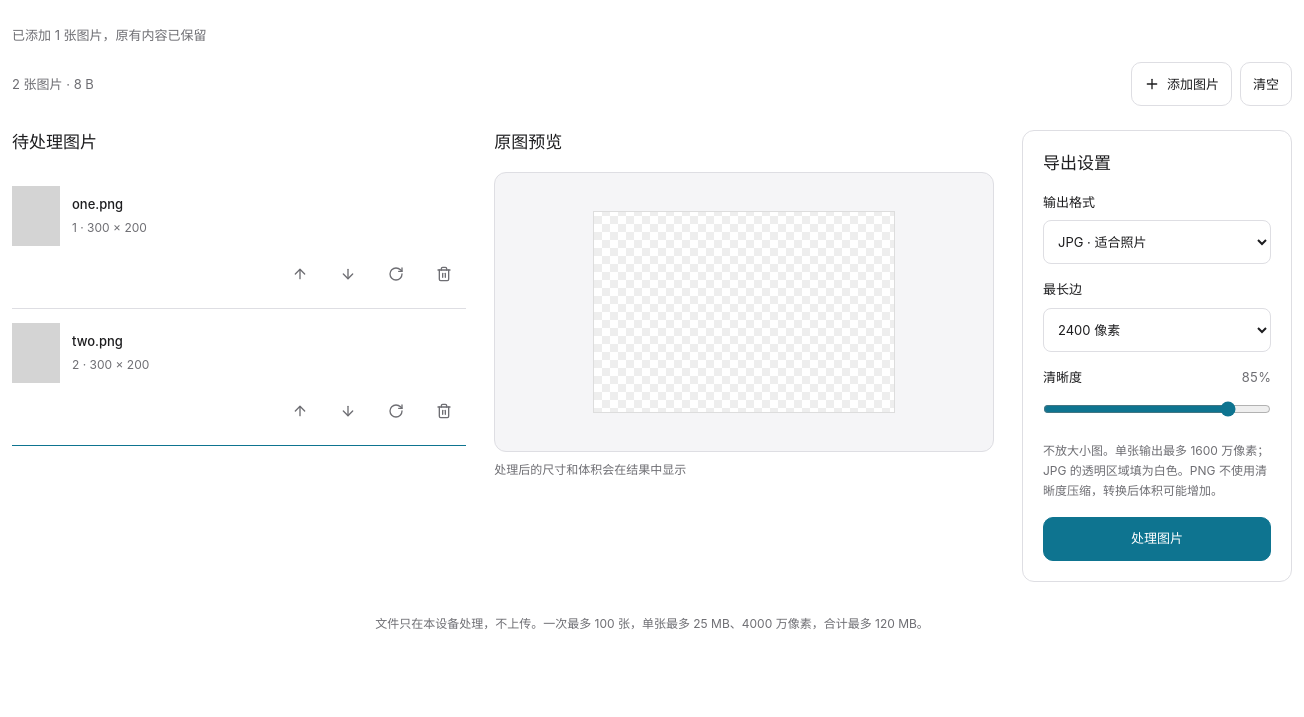
Test: consumes each handoff once in StrictMode and appends a new handoff without replacing existing images
Click the button "处理图片".
click(1157, 539)  # box [1043,517,1271,561]
(page scrolled)
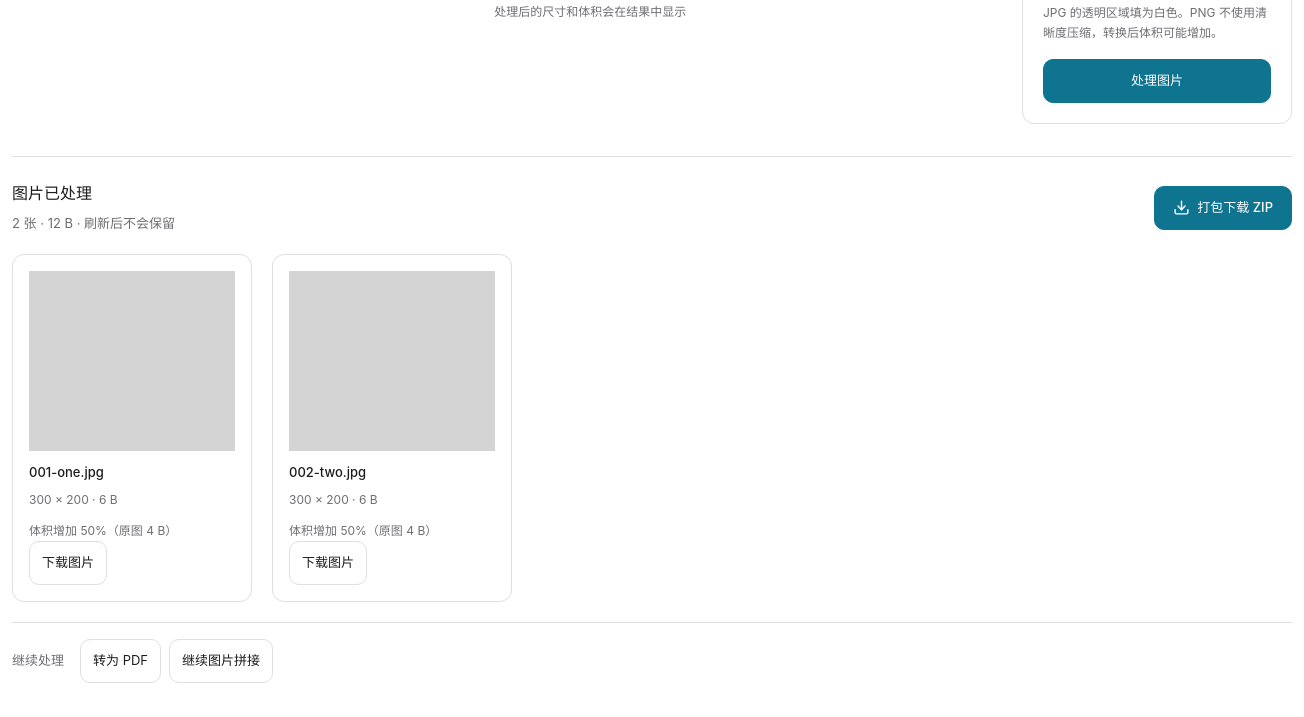
Result: the button "转为 PDF" is shown
Click the button "转为 PDF".
click(120, 661)  # box [80,639,161,683]
(page scrolled)
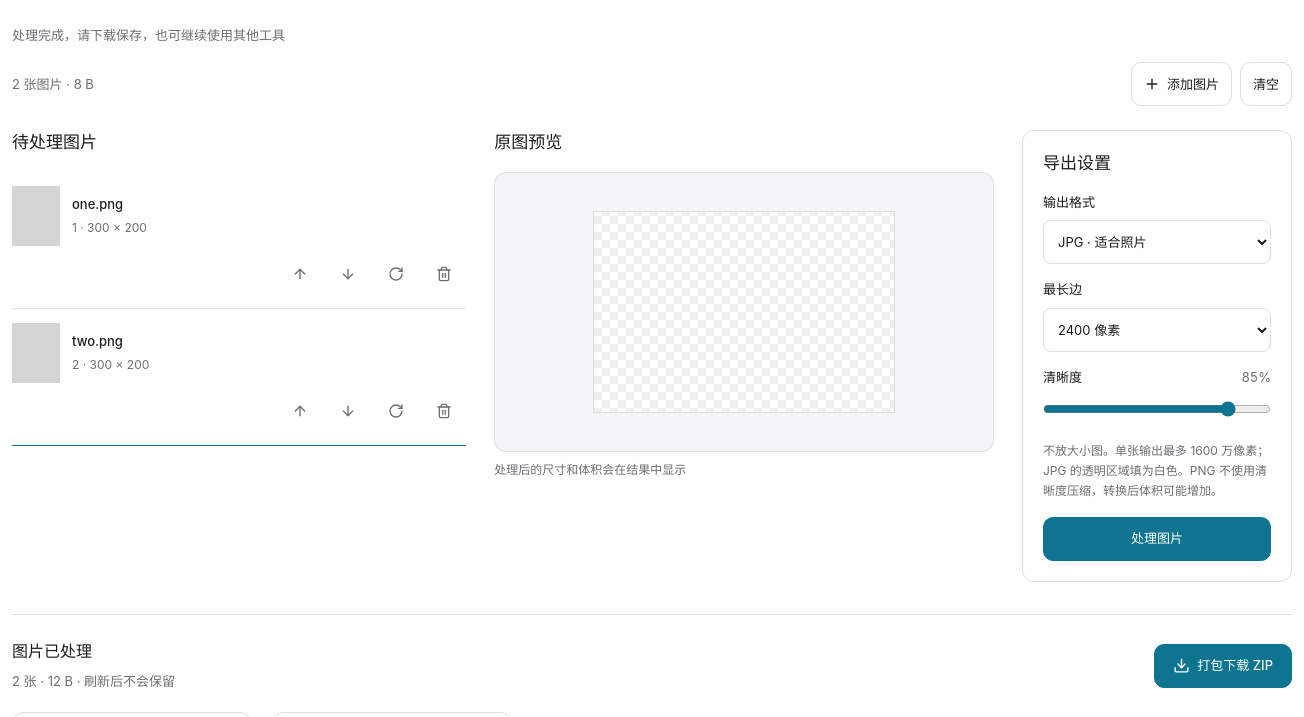
Expected: the number of list items with class "tool-image-row" is 2, [12,172,466,309]; [12,309,466,446]
Select "PNG · 支持透明" in the dropdown labelled "输出格式" at (1157, 242), box [1043,220,1271,264]
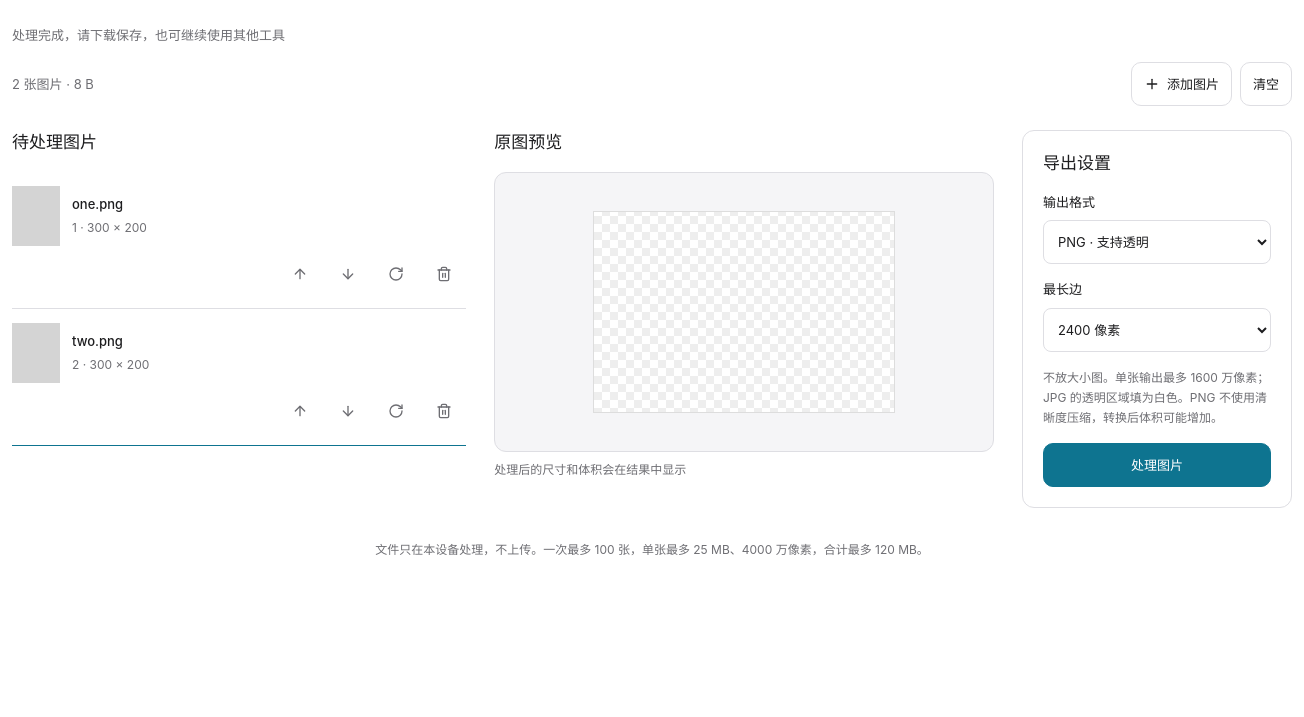
Result: no elements with class "stitch-result" are shown
